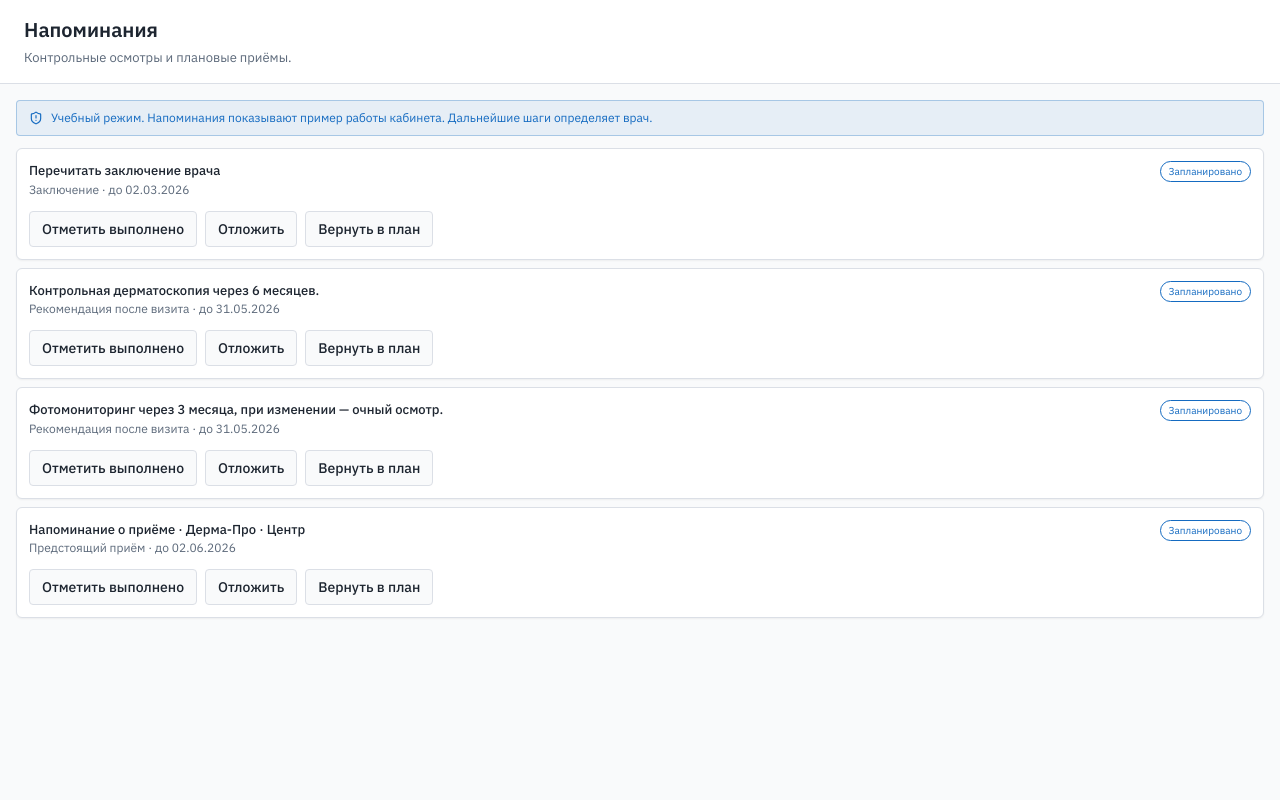
Scenario: Patient portal pages › MeRemindersPage переключает локальный статус
The width and height of the screenshot is (1280, 800).
Expected: the heading "Напоминания" is shown, left=24, top=16, right=158, bottom=43
Expected: the element that starts with "Перечитать заключение врача" is shown, left=16, top=148, right=1264, bottom=260
Click the button "Отметить выполнено" below "02.03.2026".
click(113, 228)  # box left=29, top=210, right=197, bottom=246
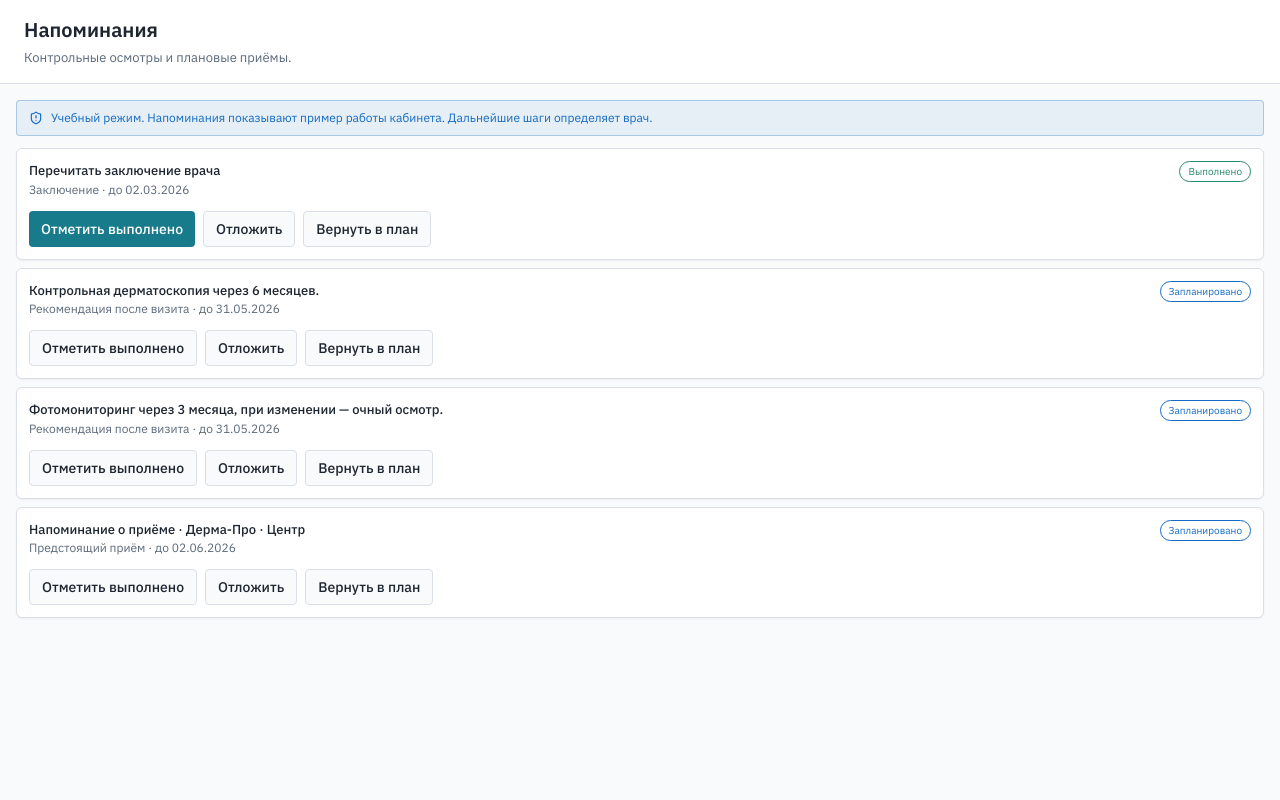
Expected: the text "Выполнено" is shown, left=1179, top=161, right=1251, bottom=182
